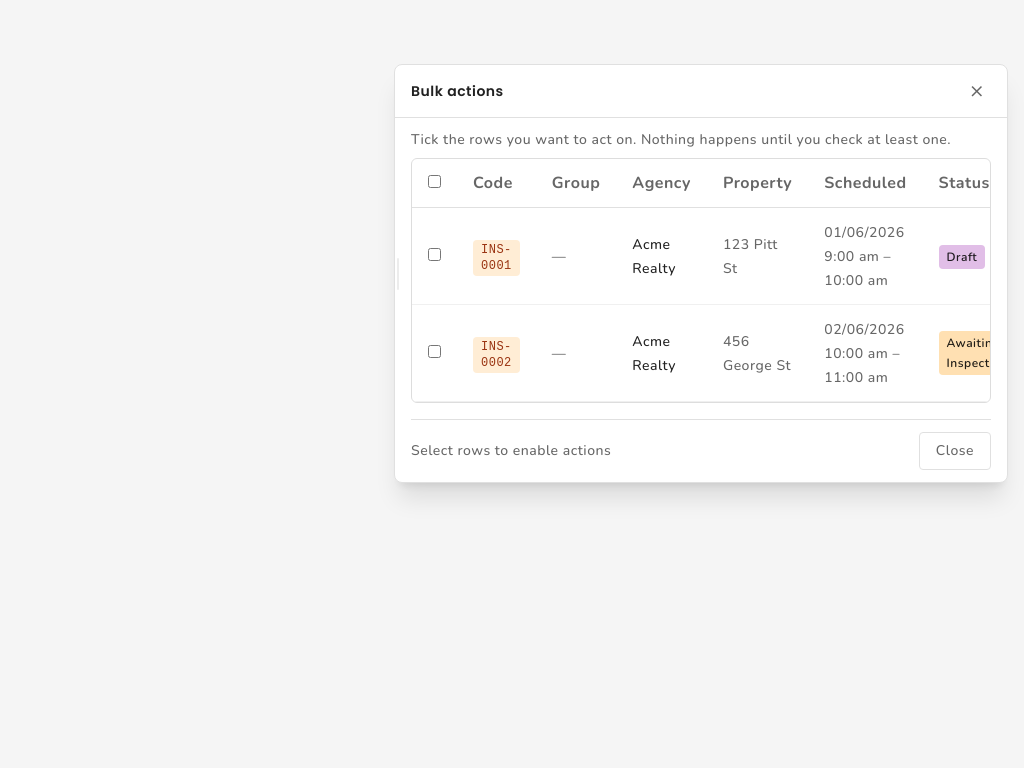
MapBulkActionModal › bulk cancel — notify the tenants already told › offers the opt-in and names only the appointment whose tenant was told
This screenshot has width=1024, height=768.
Click the checkbox named "Select INS-0001" at (434,254), box [428, 248, 441, 261]
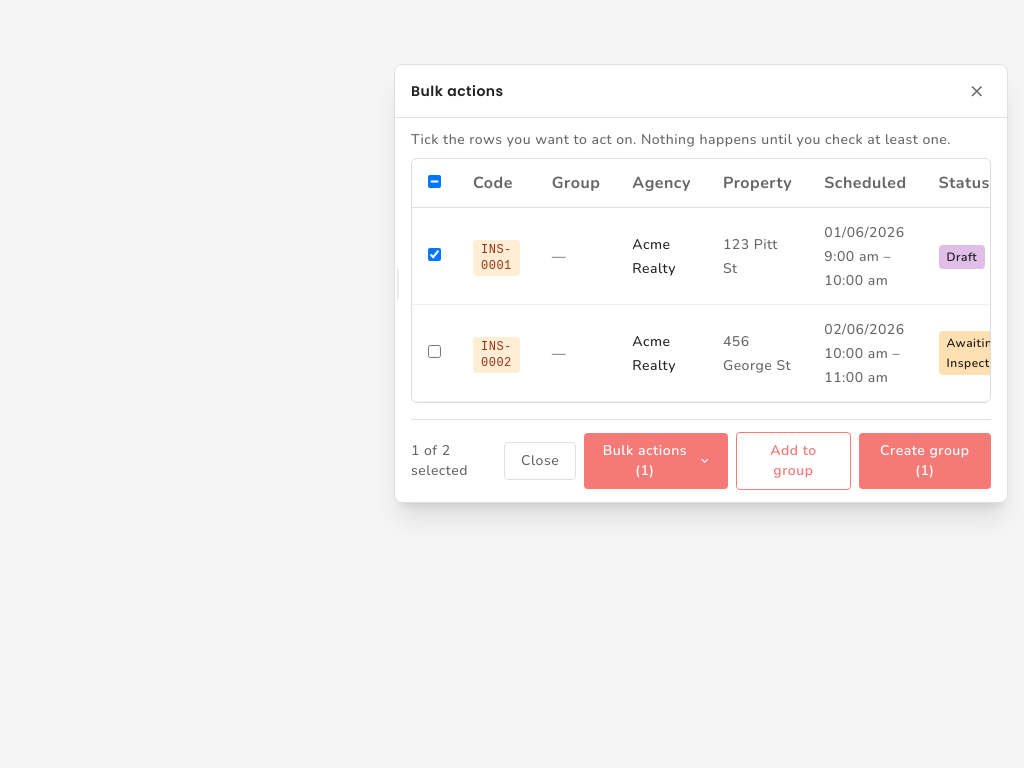
Click the checkbox with test id "bulk-modal-row-INS-0002" at (434,352), box [428, 345, 441, 358]
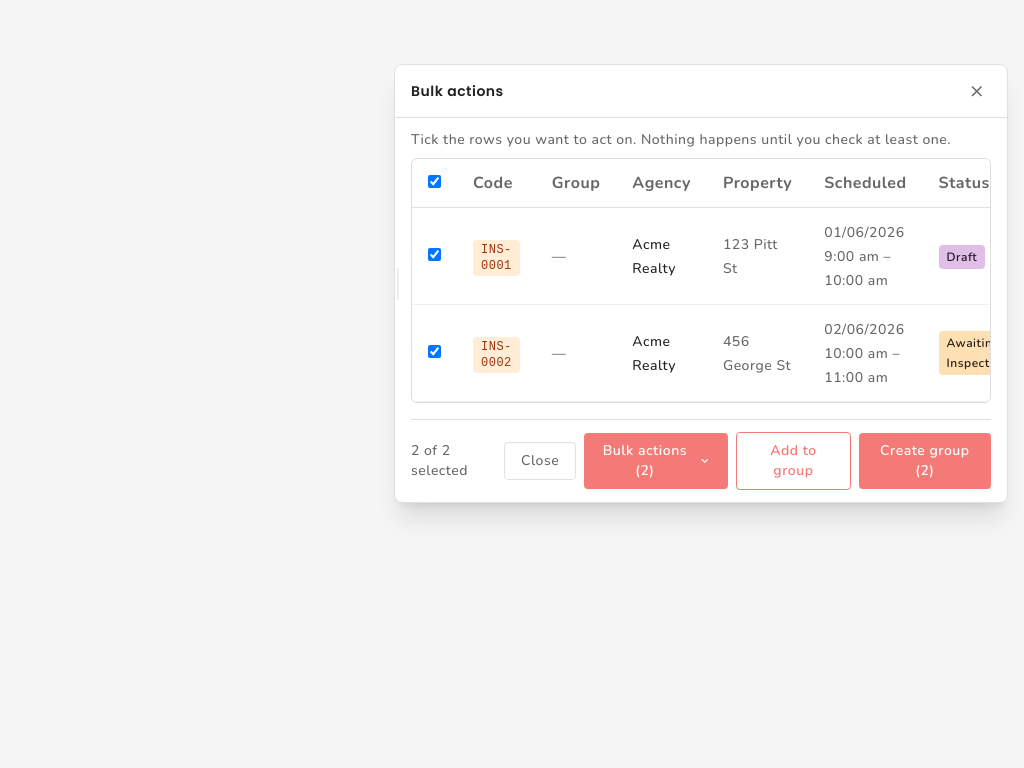
Click the button with test id "bulk-actions-toggle" at (656,461), box [584, 433, 728, 489]
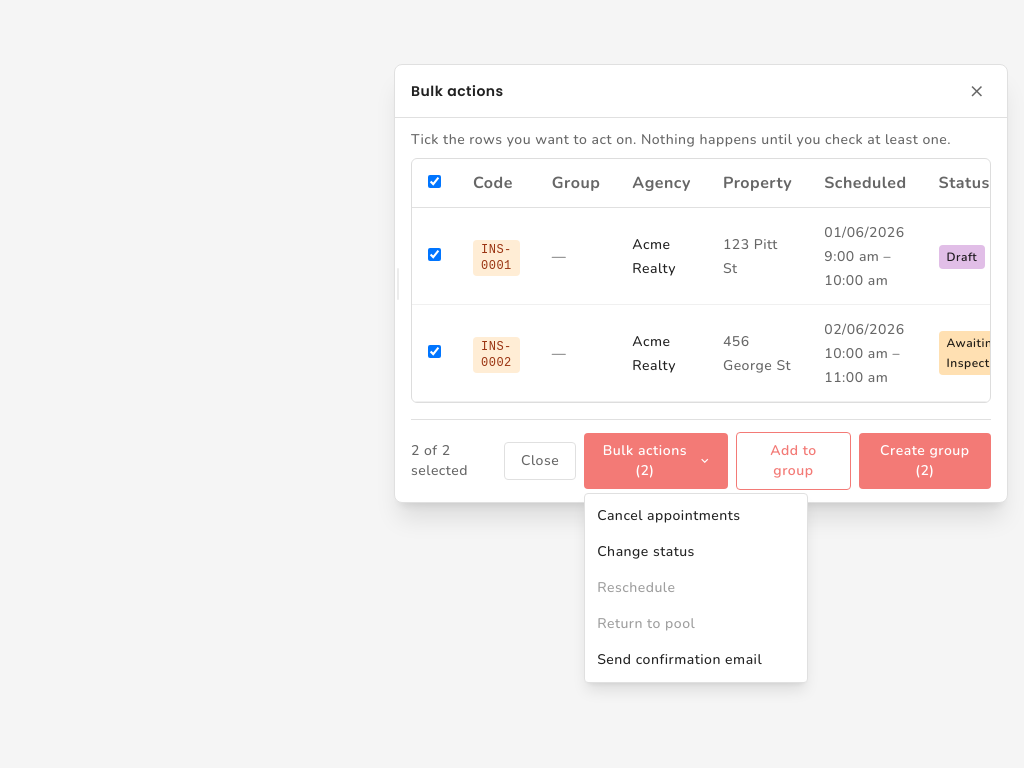
Click the menu item with test id "bulk-action-cancel" at (696,516), box [585, 498, 807, 534]
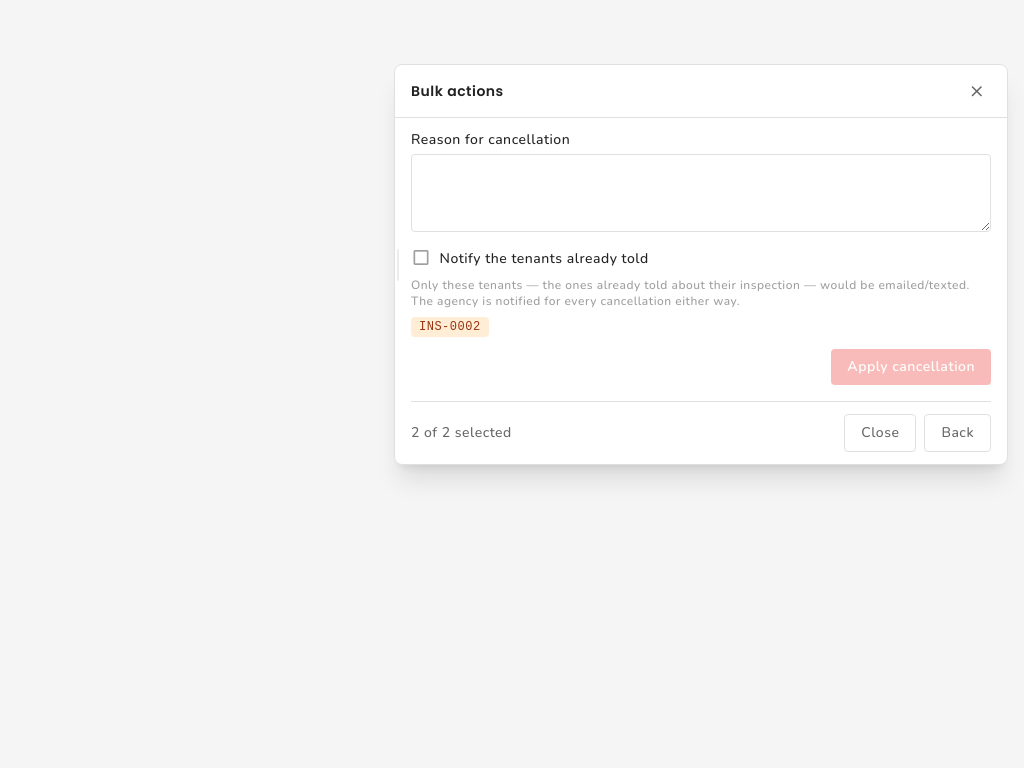
Expected: the text "INS-0002" is shown, [411, 317, 489, 337]
Result: the text "INS-0001" is gone
